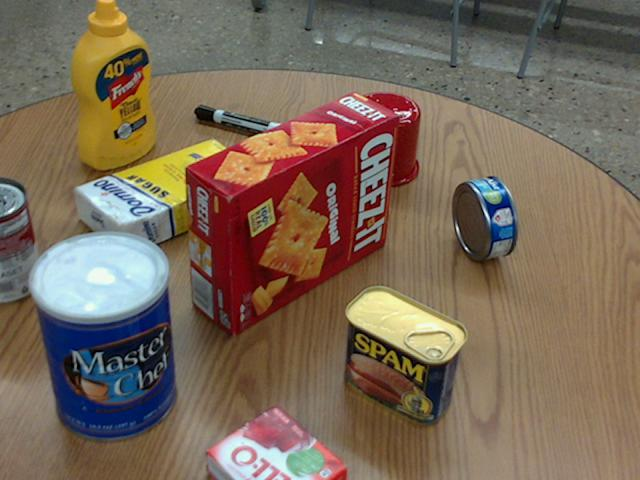cracker_box: (186, 92, 398, 333)
gelatin_box: (203, 405, 346, 479)
large_marker: (195, 104, 285, 138)
master_chef_can: (28, 231, 175, 441)
mug: (338, 92, 420, 187)
mustard_bottle: (72, 0, 154, 168)
potted_meat_can: (343, 285, 465, 424)
sugar_box: (74, 137, 258, 256)
tomato_soup_can: (0, 176, 40, 302)
tuna_fish_can: (451, 175, 517, 259)
